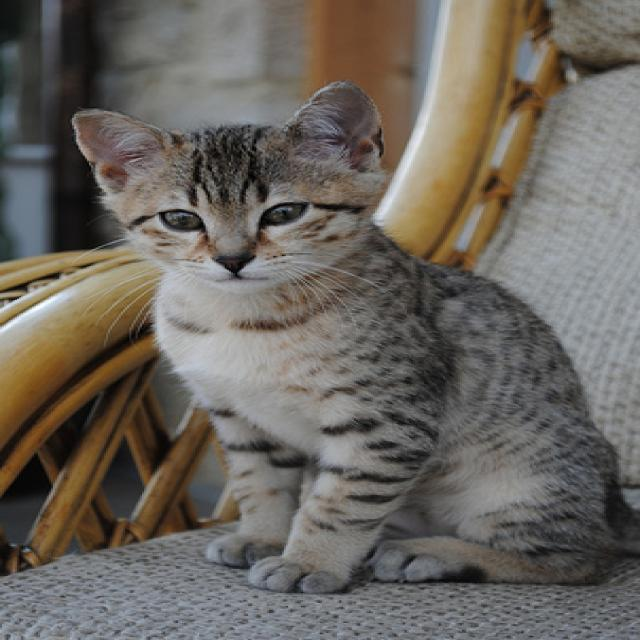Egyptian Mau: (68, 77, 640, 599)
